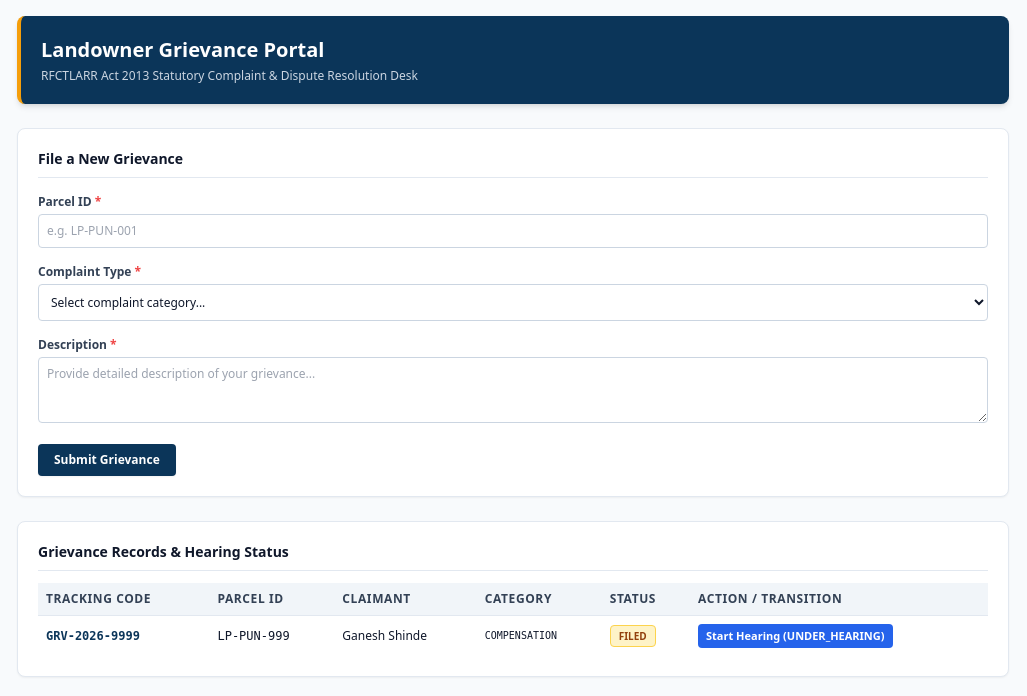
it: GrievancePortal Unit Test Suite › Status State Transitions (FILED -> UNDER_HEARING -> RESOLVED) › District Authority can transition grievance from FILED to UNDER_HEARING and then to RESOLVED in UI
expect the cell with test id "status-GRV-2026-9999" reads "FILED": met, box [619,629,647,643]
Click the button "Start Hearing (UNDER_HEARING)": (795, 636) [698,624,892,648]
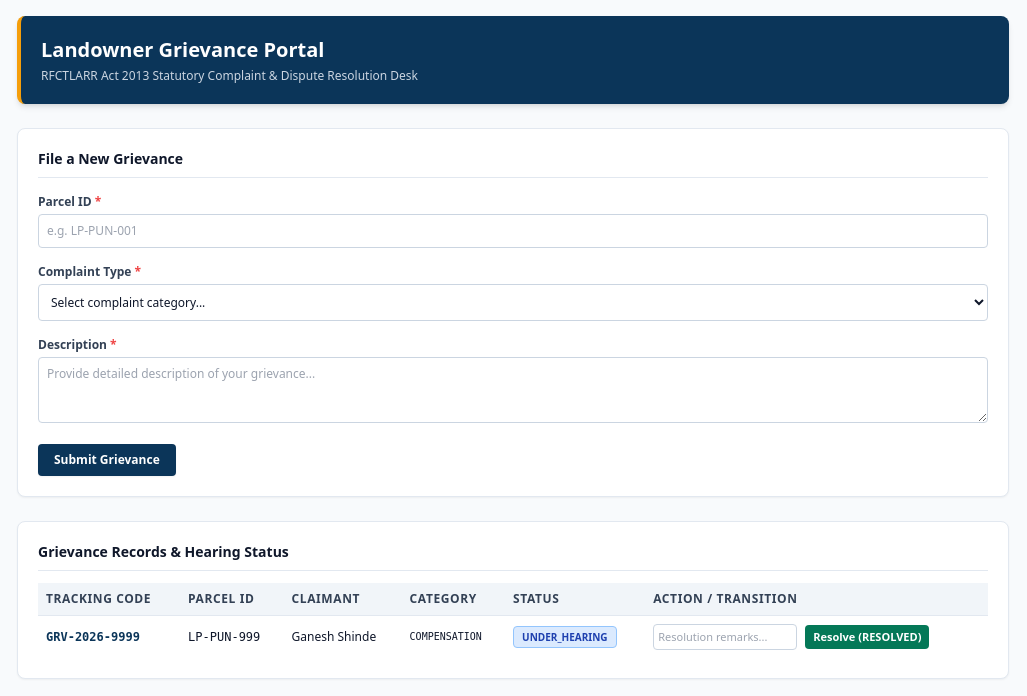
expect the cell with test id "status-GRV-2026-9999" reads "UNDER_HEARING": met, box [522,630,608,644]
In the field with placeholder "Resolution remarks...": (725, 637) [653,624,797,650], type "Objection heard. Solatium set to 100% per Section 30."
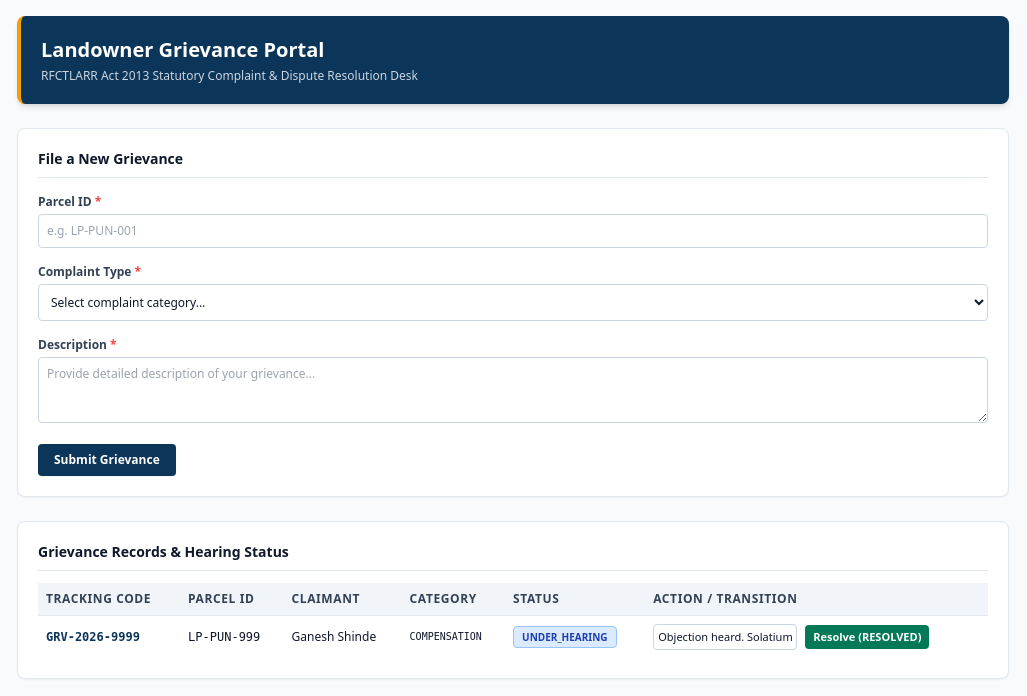
Click the button "Resolve (RESOLVED)": (867, 637) [805,625,929,649]
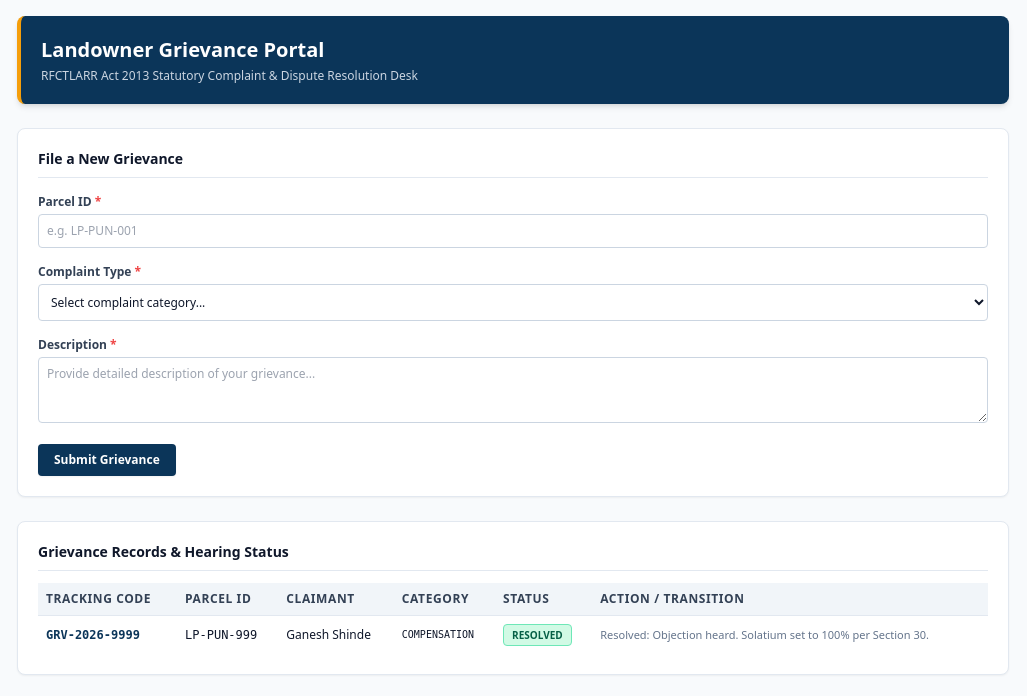
expect the cell with test id "status-GRV-2026-9999" reads "RESOLVED": met, box [512,628,563,642]
expect the text "Objection heard. Solatium set to 100% per Section 30" is shown: met, box [652,627,929,642]
